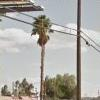Palm tree: (26, 12, 63, 95)
